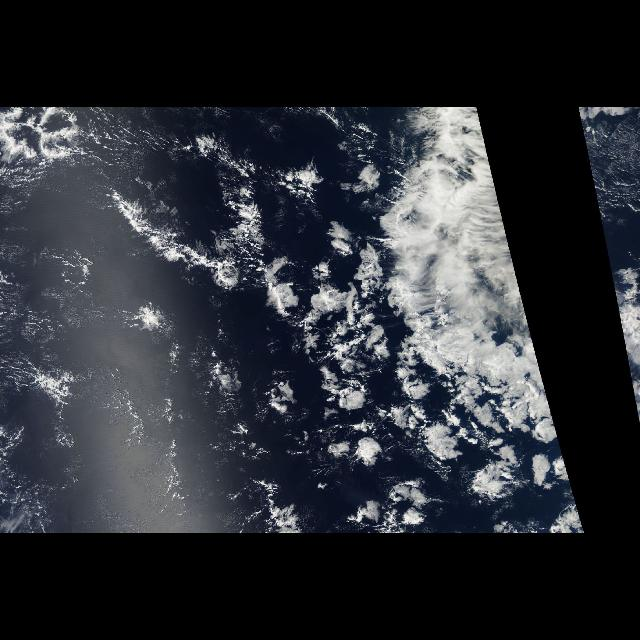Fish: (105, 158, 248, 322)
Flower: (270, 228, 530, 526)
Gravel: (21, 121, 362, 529)
Sugar: (0, 176, 122, 462)
